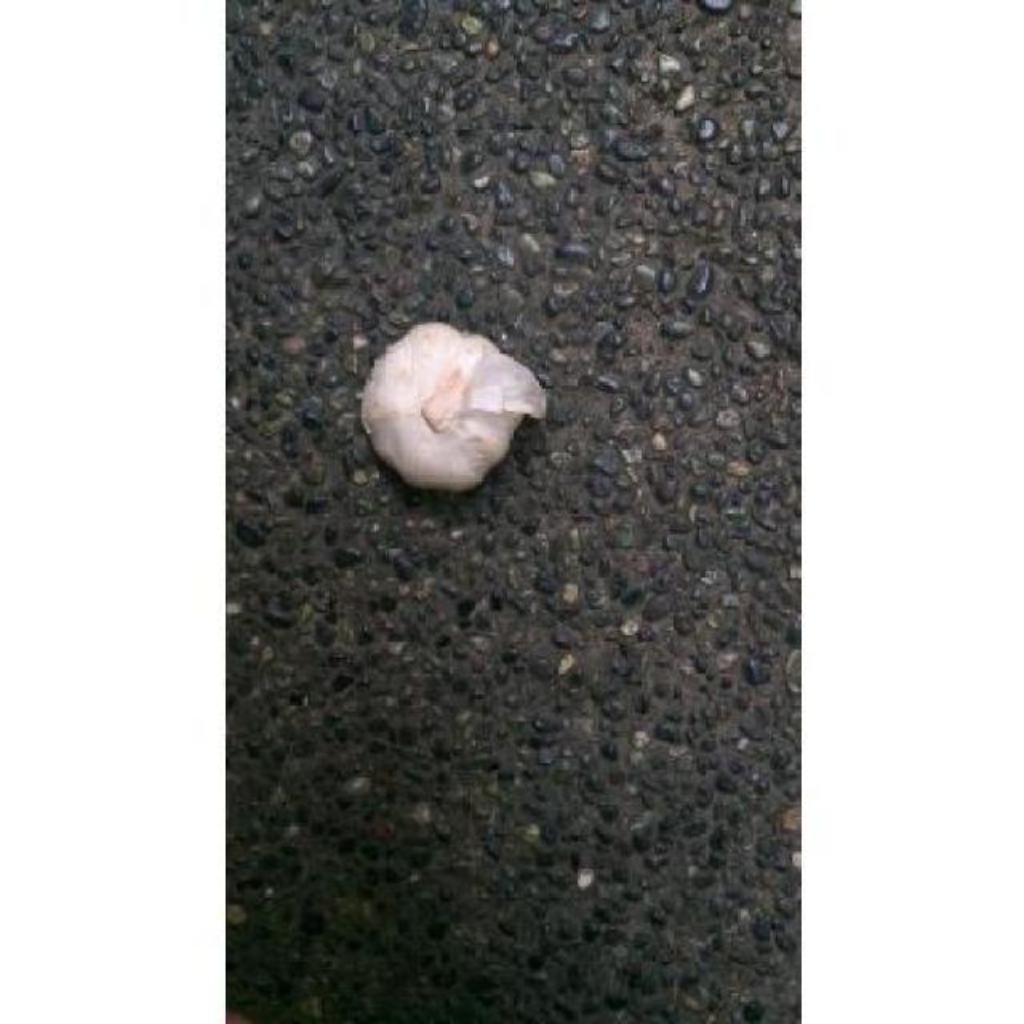garlic: (362, 322, 546, 491)
